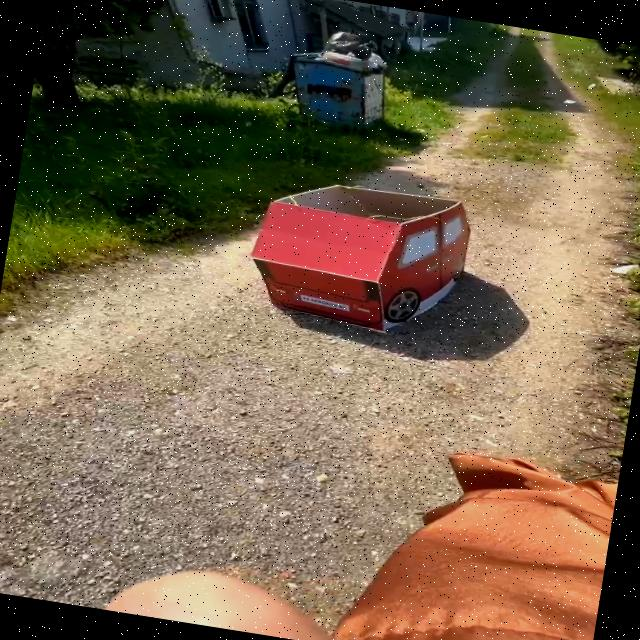red_car: (220, 154, 501, 358)
